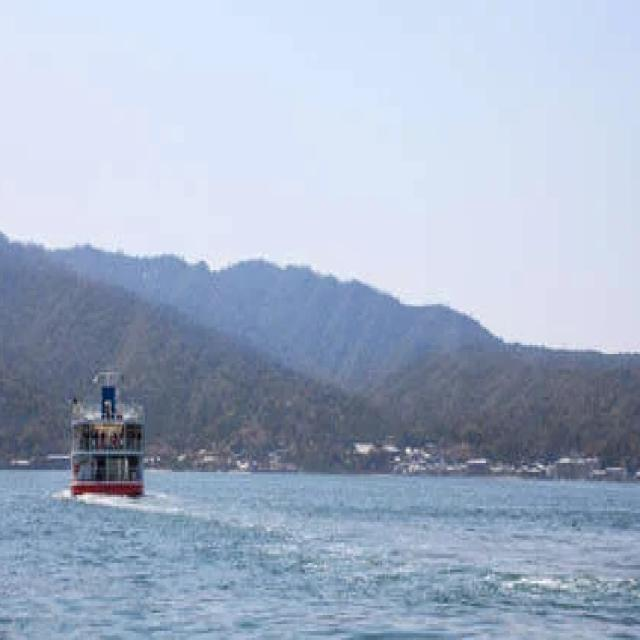passenger ship: (64, 341, 164, 492)
